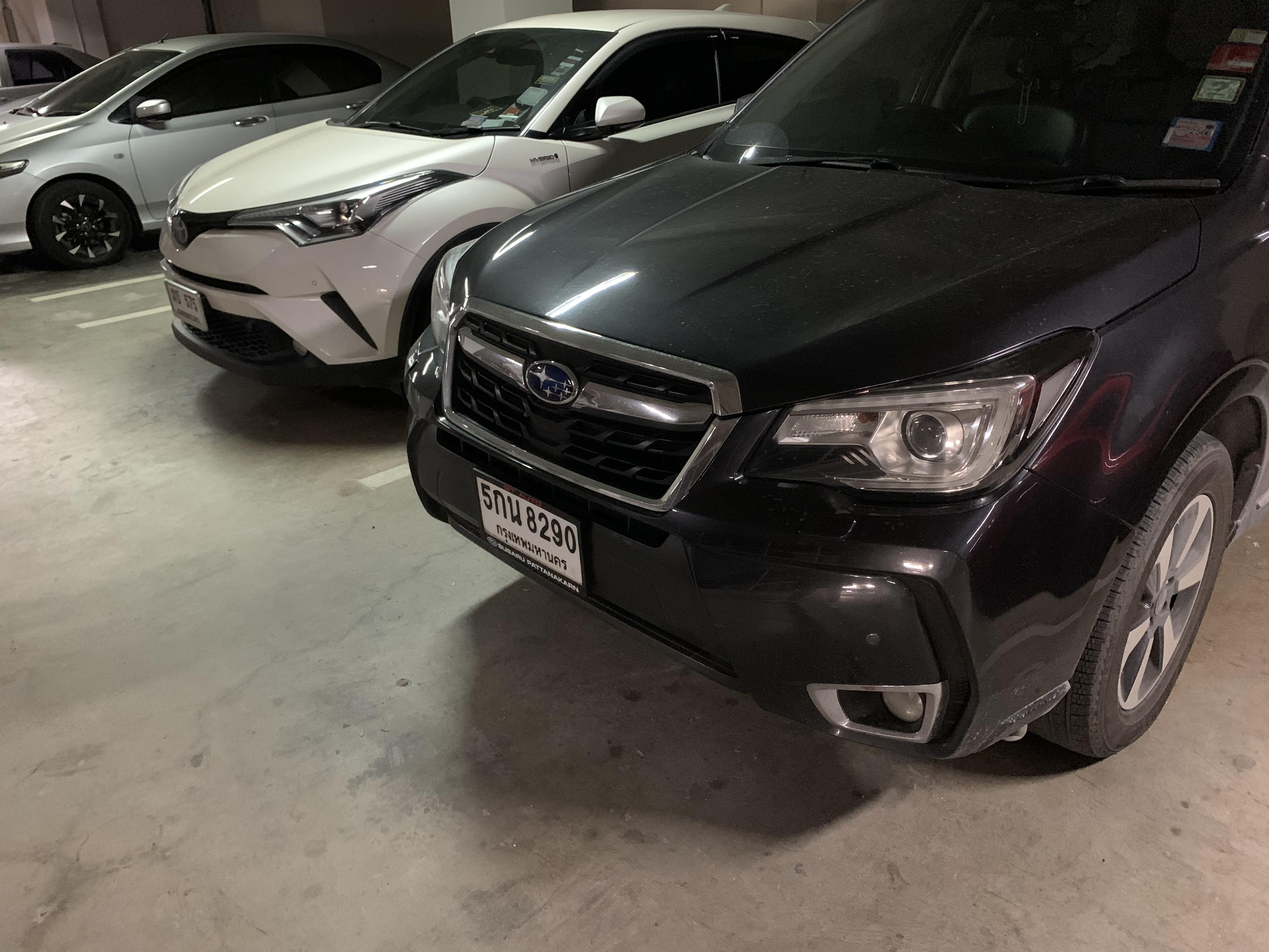license-plate: (470, 468, 588, 601), (163, 275, 212, 337)
